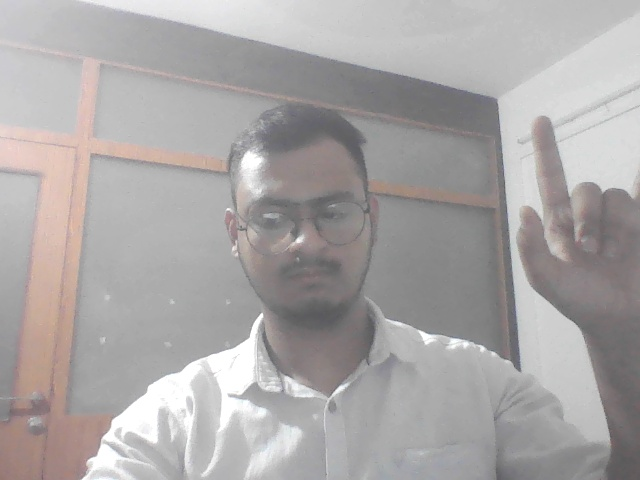I Love You: (488, 105, 640, 358)
